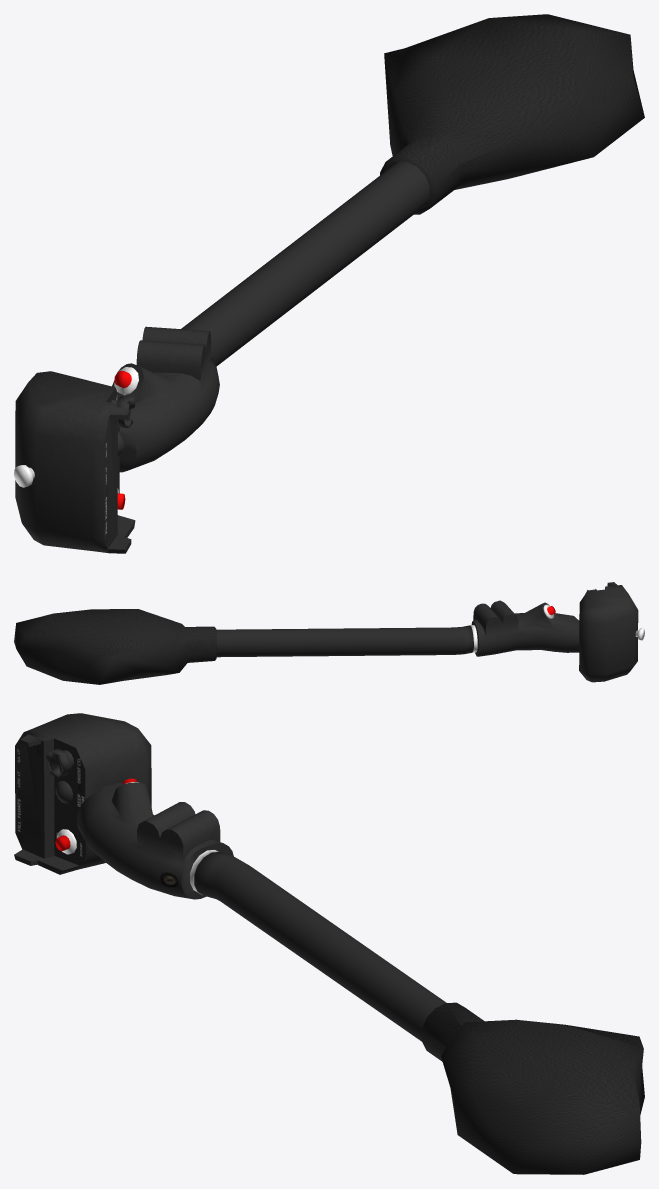
The model's file is collective.gltf.
3 renders of one model, top to bottom at view 1: azimuth 30°, elevation 25°; view 2: azimuth 150°, elevation 25°; view 3: azimuth 270°, elevation 25°, orthographic. The views are drawn at different scales.
Parts seen in each view (by area): view 1: collective.leather, collective.head, collective.shaft; view 2: collective.leather, collective.head, collective.shaft; view 3: collective.leather, collective.head, collective.shaft.
Part boxes in pixels (x1,y1,x2,y2): collective.leather: [380, 14, 644, 214]; collective.head: [15, 326, 219, 553]; collective.shaft: [14, 161, 429, 509]; collective.leather: [14, 609, 216, 684]; collective.head: [471, 582, 638, 682]; collective.shaft: [216, 589, 644, 657]; collective.leather: [421, 1002, 644, 1174]; collective.head: [14, 713, 233, 899]; collective.shaft: [44, 748, 446, 1041].
Bounding box in the file's own units: 0.674 × 0.0976 × 0.4539.
6 materials, 2 textured.
